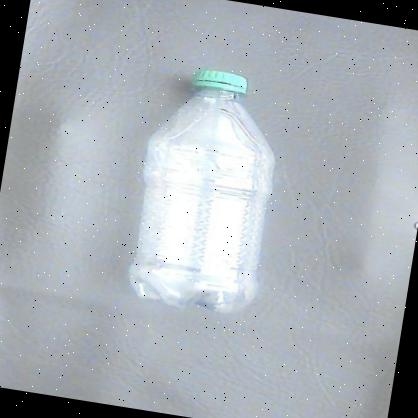bottle: (112, 58, 300, 324)
cap: (176, 64, 254, 107)
